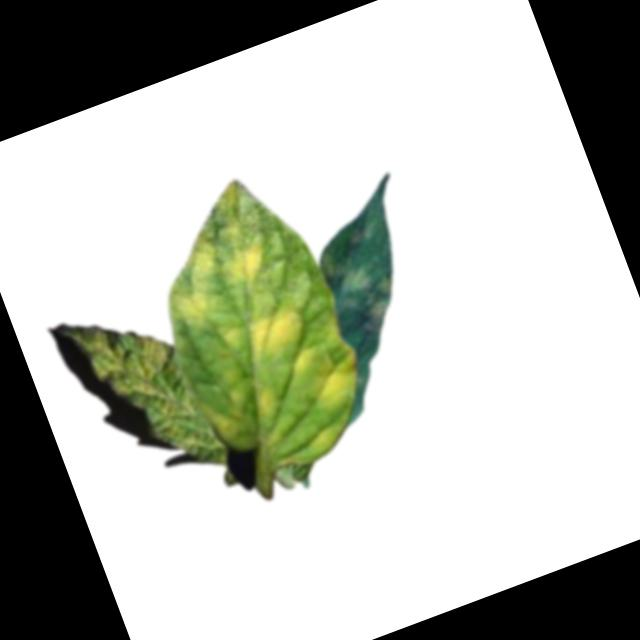Leaf_Mold: (71, 297, 234, 499), (161, 177, 274, 301), (318, 236, 407, 345), (207, 297, 311, 378), (278, 331, 371, 415), (218, 374, 283, 433), (164, 281, 216, 338)
